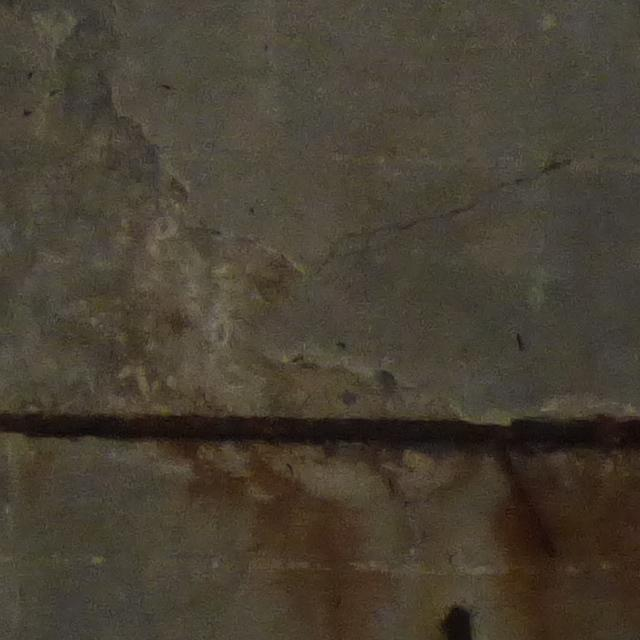Rust: (2, 408, 640, 460)
